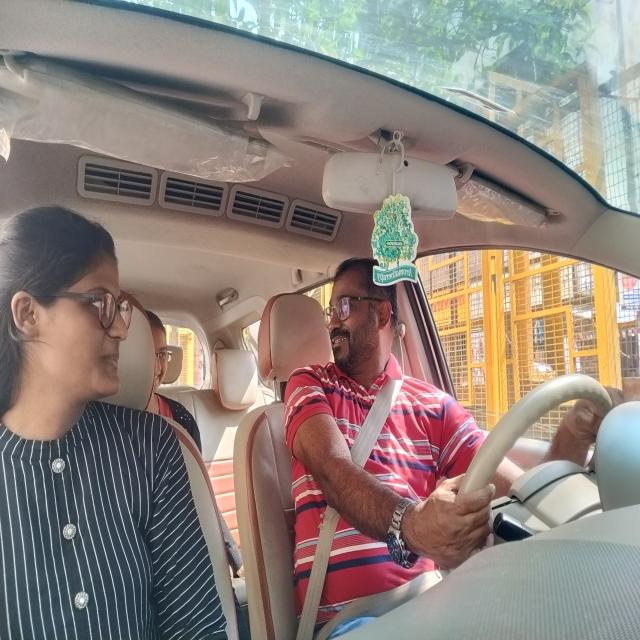LeftRight: (316, 260, 402, 382)
person: (12, 212, 134, 408), (150, 312, 178, 401)
talking: (324, 329, 355, 352)
